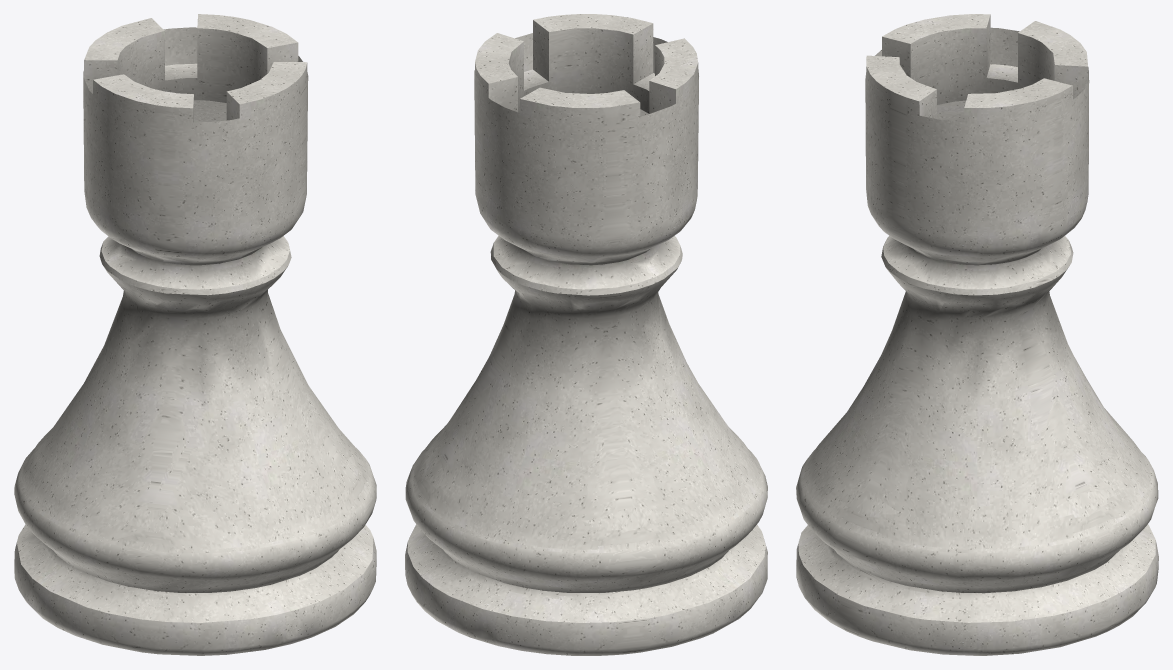
File: vez_bila.glb
3 views of the same model, side by side, from view 1: azimuth 30°, elevation 25°; view 2: azimuth 150°, elevation 25°; view 3: azimuth 270°, elevation 25° (orthographic).
Parts seen in each view (by area): view 1: vez_bila; view 2: vez_bila; view 3: vez_bila.
Boxes of the visible parts, left/top/right/bottom form: vez_bila: left=14, top=14, right=376, bottom=655; vez_bila: left=405, top=14, right=767, bottom=655; vez_bila: left=796, top=14, right=1158, bottom=655.
Size of the model in its own units: 0.0358 by 0.058 by 0.0359.
Materials: 1 (1 with a texture image).
